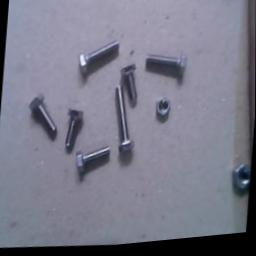Non-corroded Nut: (156, 100, 171, 123)
Non-corroded-Bolts: (79, 42, 119, 74), (117, 87, 135, 154), (29, 94, 56, 132), (147, 57, 187, 78), (65, 110, 83, 156), (76, 148, 111, 169), (120, 66, 136, 102)
